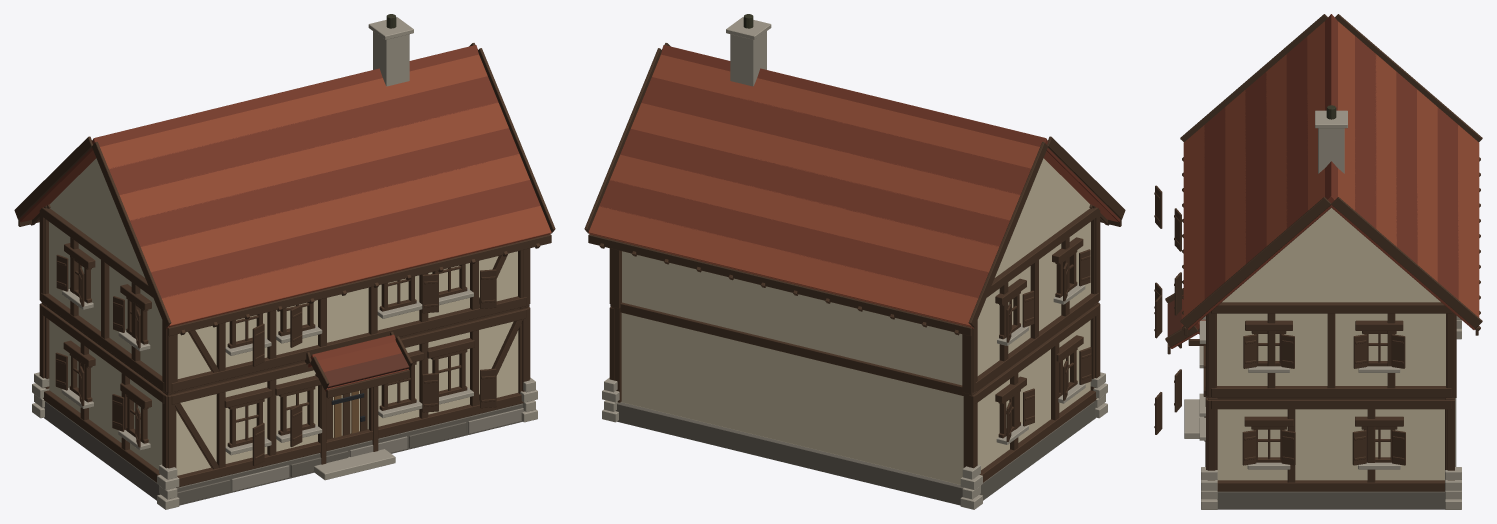
The model's file is V_Maison_D.glb.
The picture shows the model from 3 angles, left to right: view 1: azimuth 30°, elevation 25°; view 2: azimuth 150°, elevation 25°; view 3: azimuth 270°, elevation 25°; orthographic projection. The views are drawn at different scales.
Parts seen in each view (by area): view 1: V_Maison_D; view 2: V_Maison_D; view 3: V_Maison_D.
Part boxes in pixels (bbox=[...]): V_Maison_D: bbox=[14, 14, 555, 509]; V_Maison_D: bbox=[584, 14, 1125, 509]; V_Maison_D: bbox=[1154, 14, 1482, 509].
Bounding box in the file's own units: 9.82 × 9.25 × 7.39.
